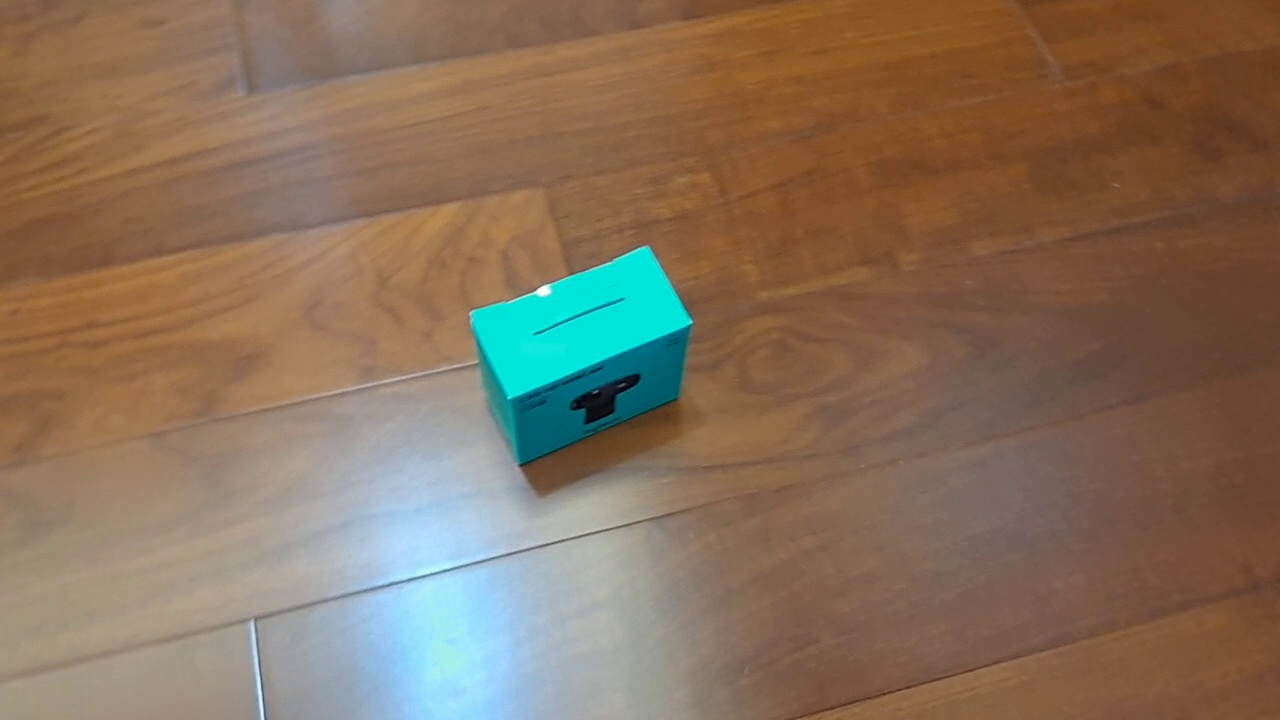webcam: (468, 244, 695, 467)
